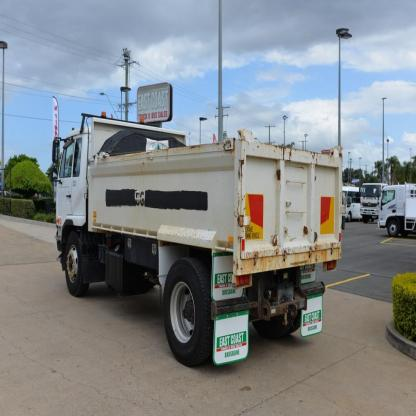dump_truck: (43, 99, 345, 387)
